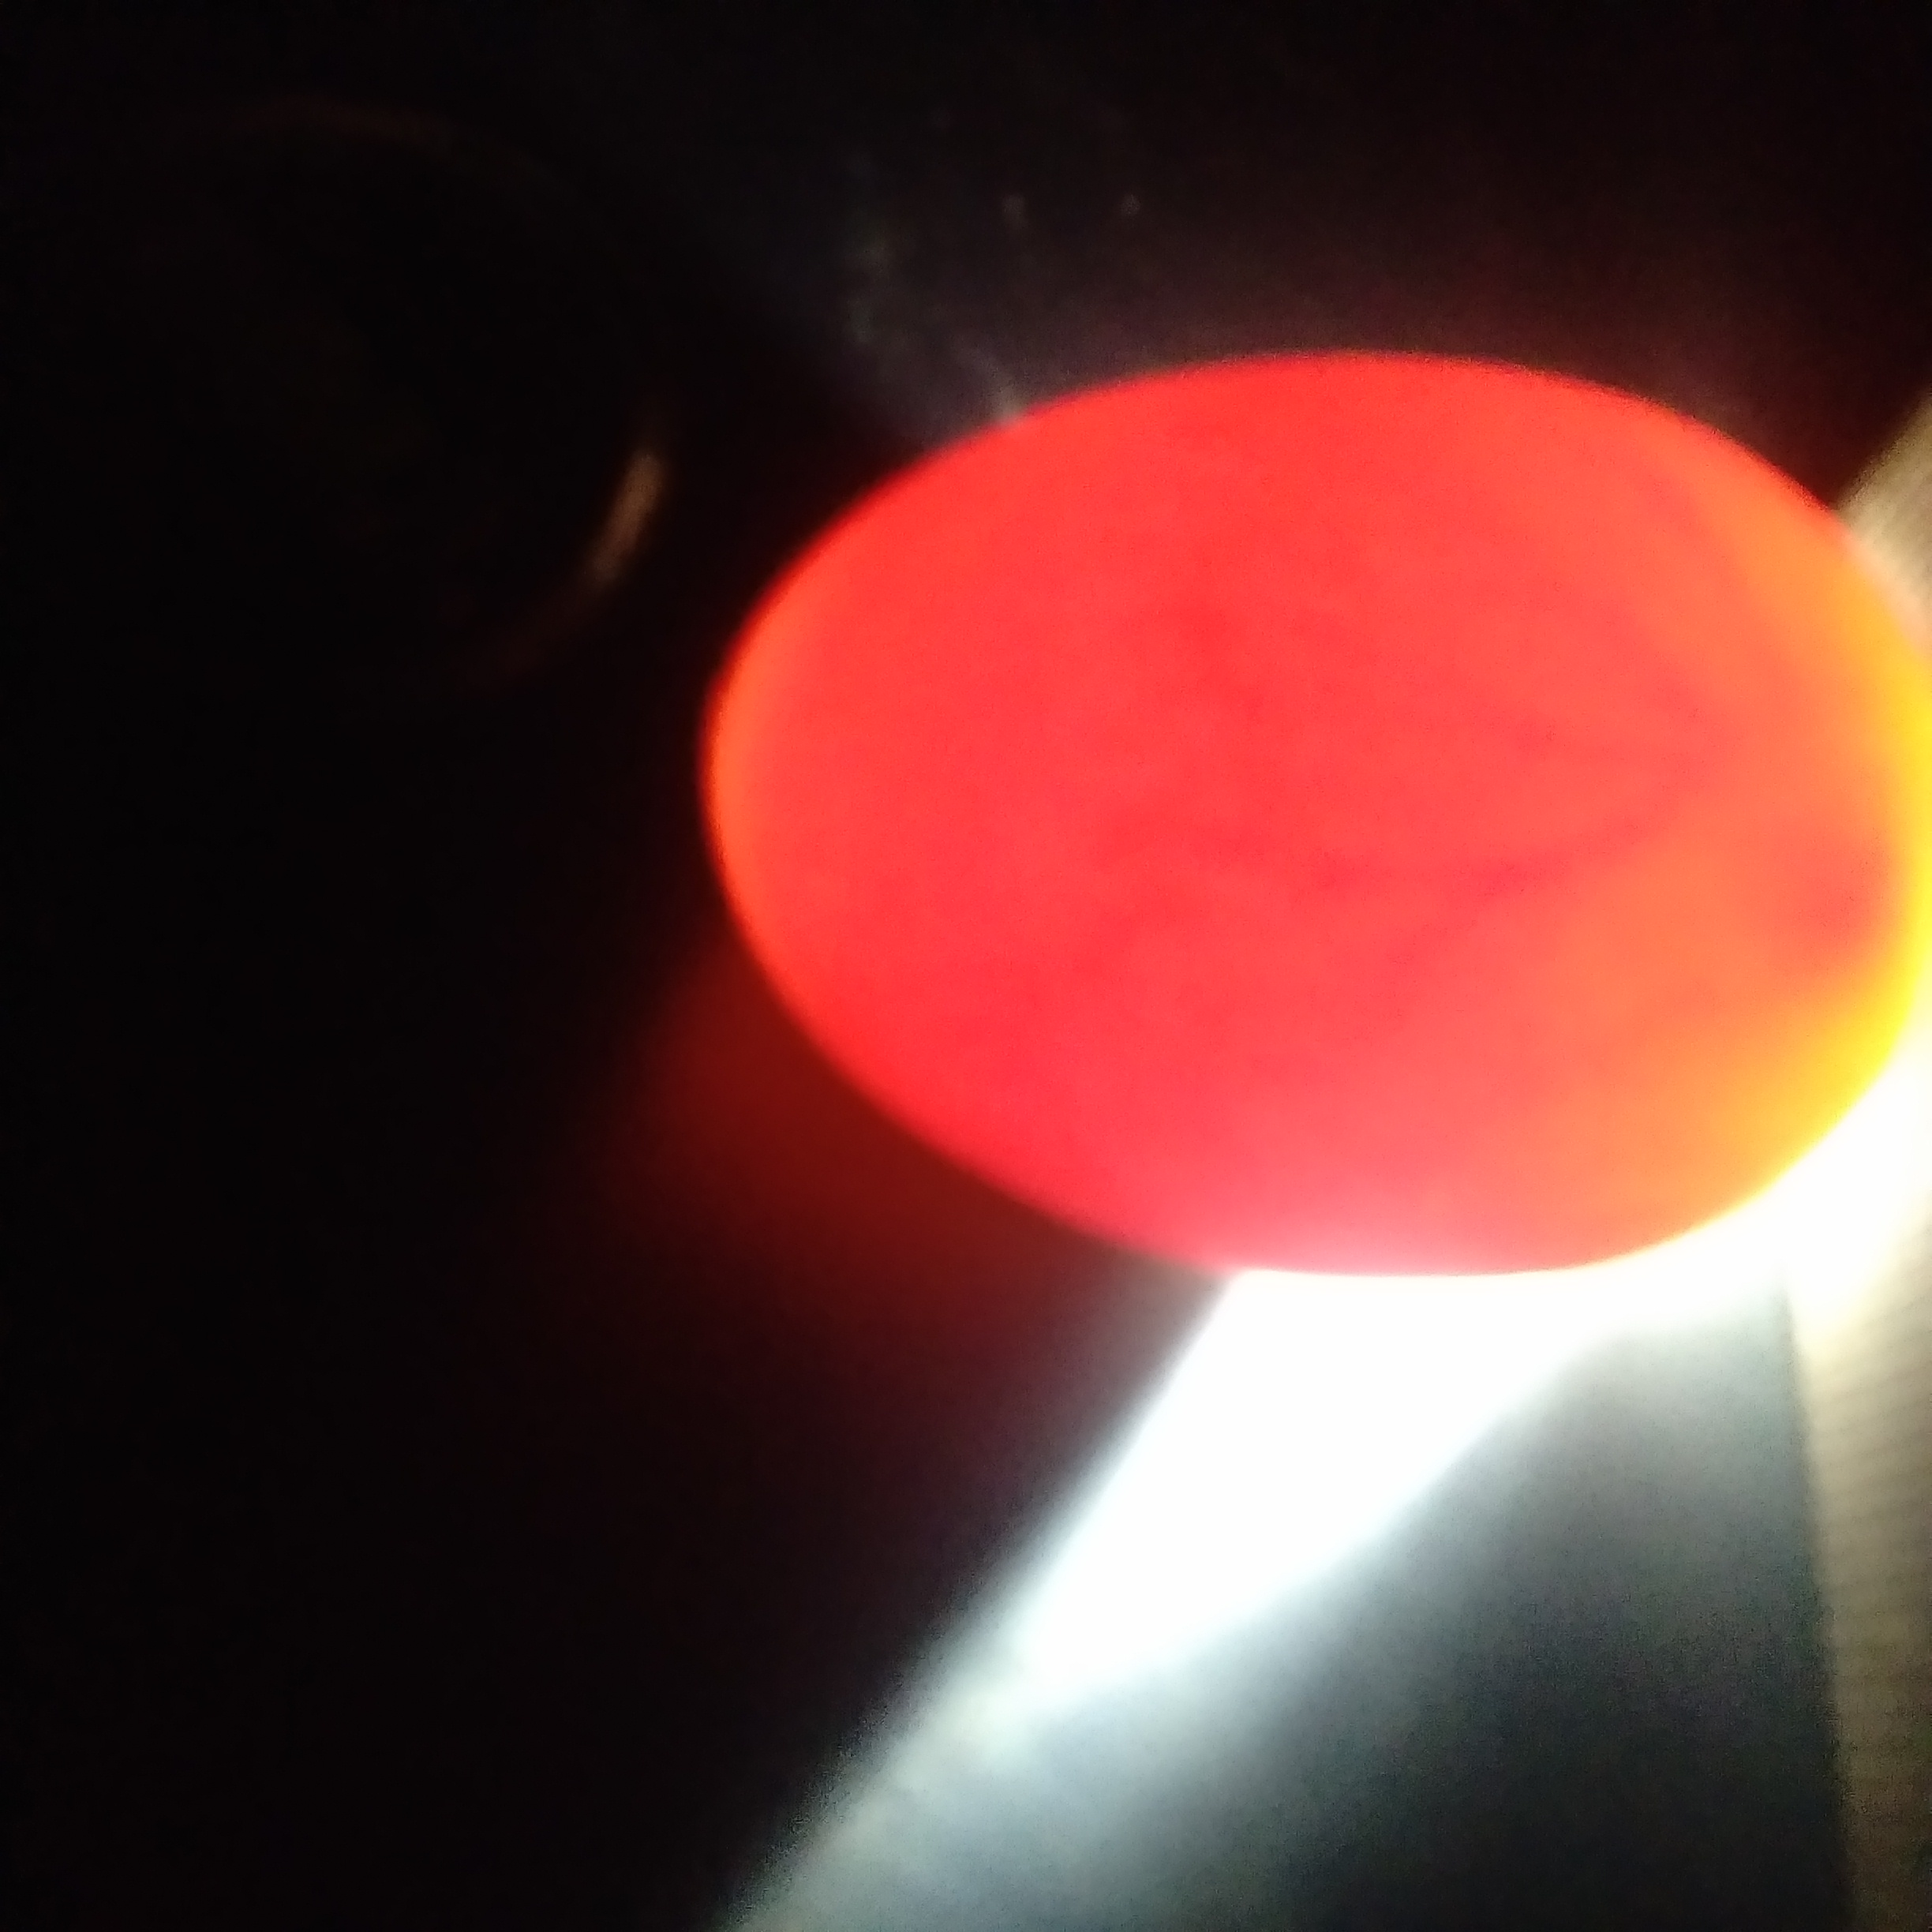bloodcell: (1322, 644, 1746, 1003)
